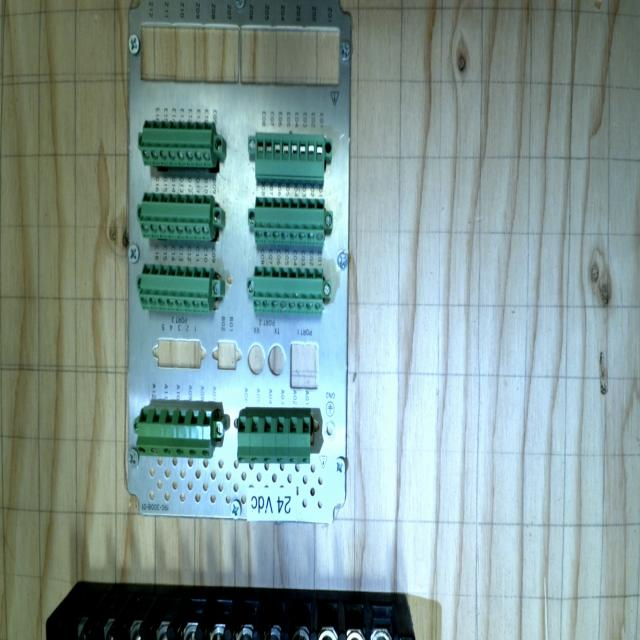Terminal_1: (136, 408, 212, 458), (237, 416, 310, 463)
Terminal_2: (138, 263, 212, 313), (253, 197, 326, 246), (252, 266, 324, 315), (139, 193, 213, 240), (141, 122, 214, 167)
